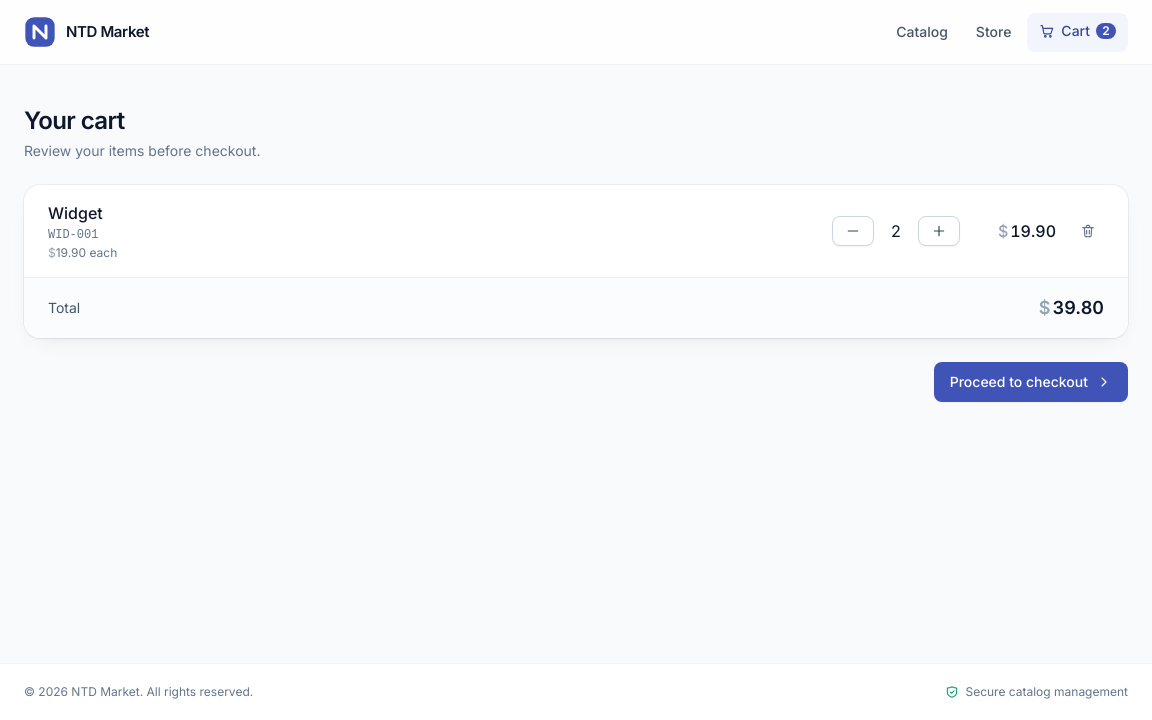
Scenario: CartPage › increments a line quantity via PUT with the absolute value
Expected: the text "Widget" is shown, [48, 203, 103, 223]
Click the button named "Increase quantity".
click(939, 231)  # box [918, 216, 960, 246]
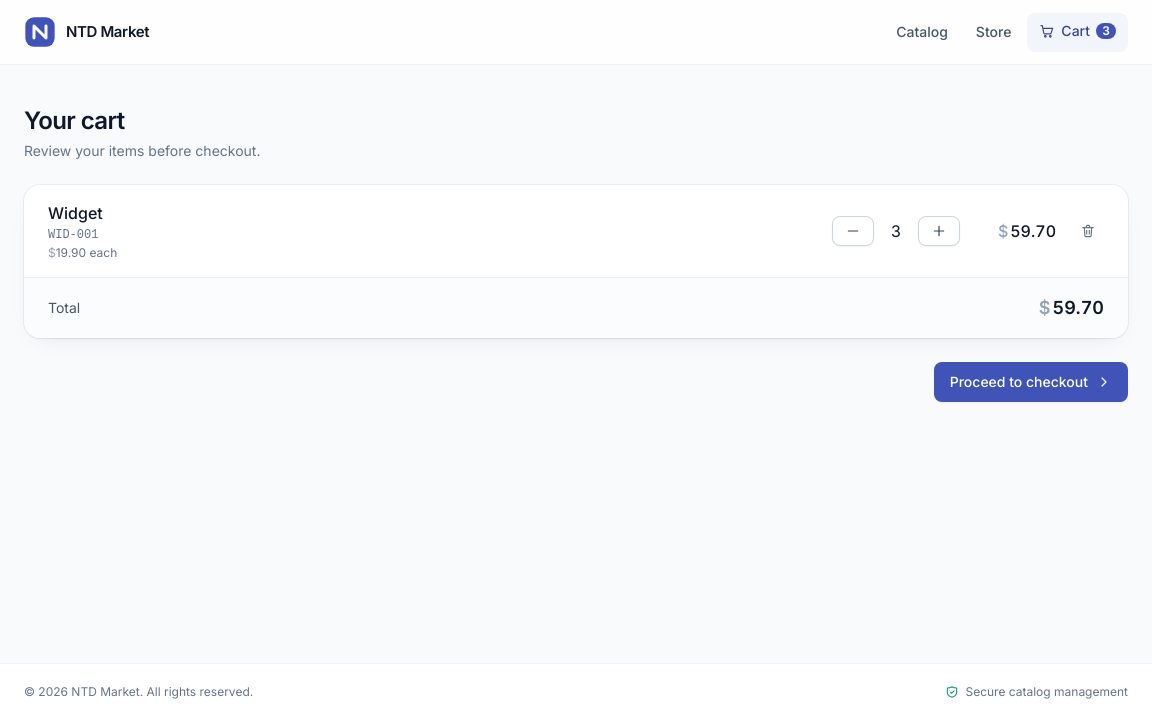
Expected: the text "59.70" is shown 2 times, [998, 221, 1056, 241]; [1039, 294, 1104, 322]
Now the text named "Quantity for Widget" reads "3", box [891, 221, 901, 241]
